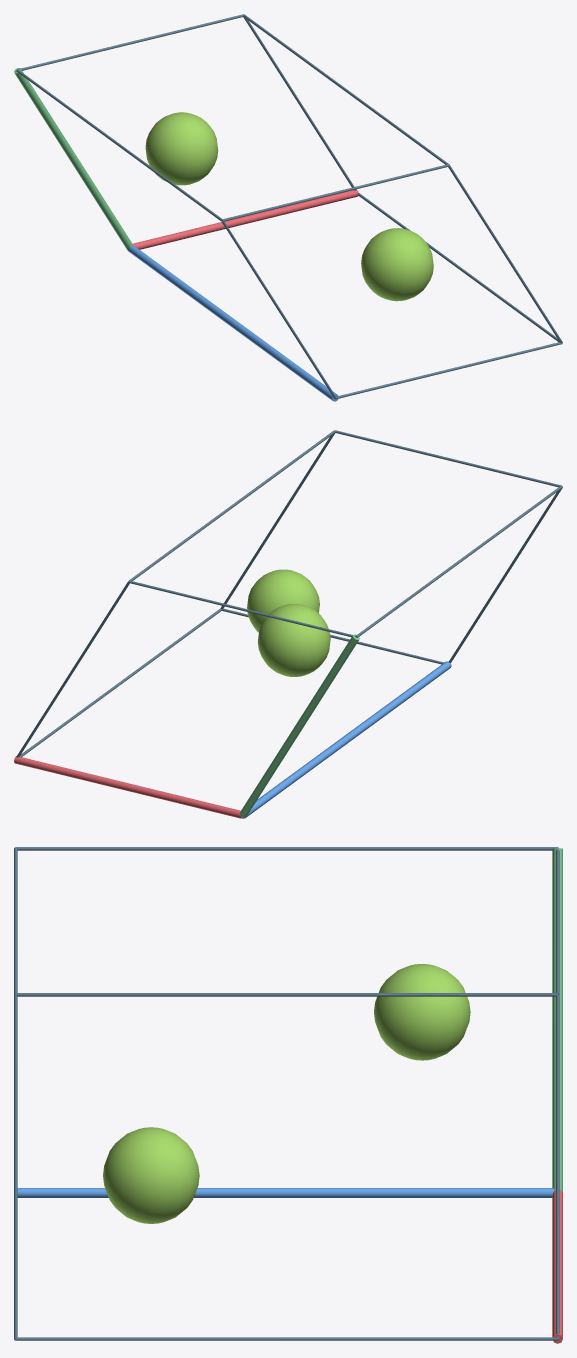
Rendered from nguyen-to-be.glb.
The picture shows the model from 3 angles, top to bottom: view 1: azimuth 30°, elevation 25°; view 2: azimuth 150°, elevation 25°; view 3: azimuth 270°, elevation 25°; orthographic projection. The views are drawn at different scales.
Parts seen in each view (by area): view 1: Ô mạng và các trục a, b, c, Be · Be · 1 (×2); view 2: Ô mạng và các trục a, b, c, Be · Be · 1 (×2); view 3: Ô mạng và các trục a, b, c, Be · Be · 1 (×2).
Boxes of the visible parts, x1=… form: Ô mạng và các trục a, b, c: x1=14, y1=14, x2=562, y2=401; Be · Be · 1 (×2): x1=145, y1=112, x2=433, y2=301; Ô mạng và các trục a, b, c: x1=14, y1=430, x2=562, y2=818; Be · Be · 1 (×2): x1=247, y1=569, x2=330, y2=676; Ô mạng và các trục a, b, c: x1=14, y1=847, x2=562, y2=1343; Be · Be · 1 (×2): x1=103, y1=964, x2=470, y2=1223.
Size of the model in its own units: 3.47 by 2.03 by 3.63.
